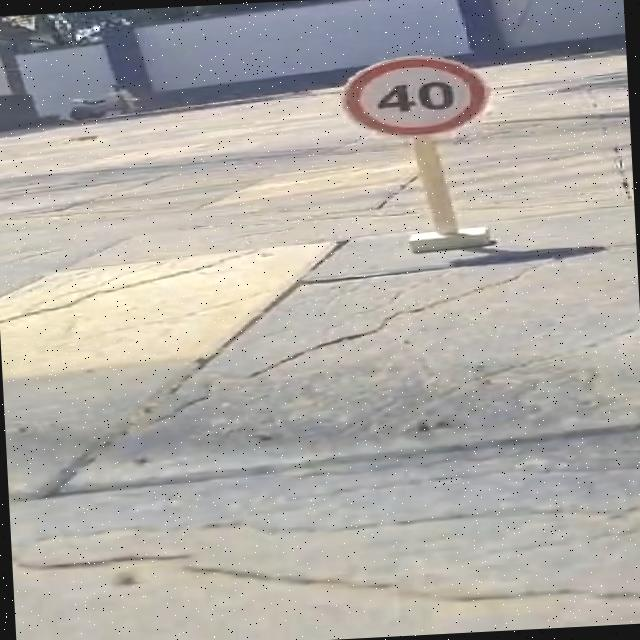Speed40: (336, 48, 496, 141)
